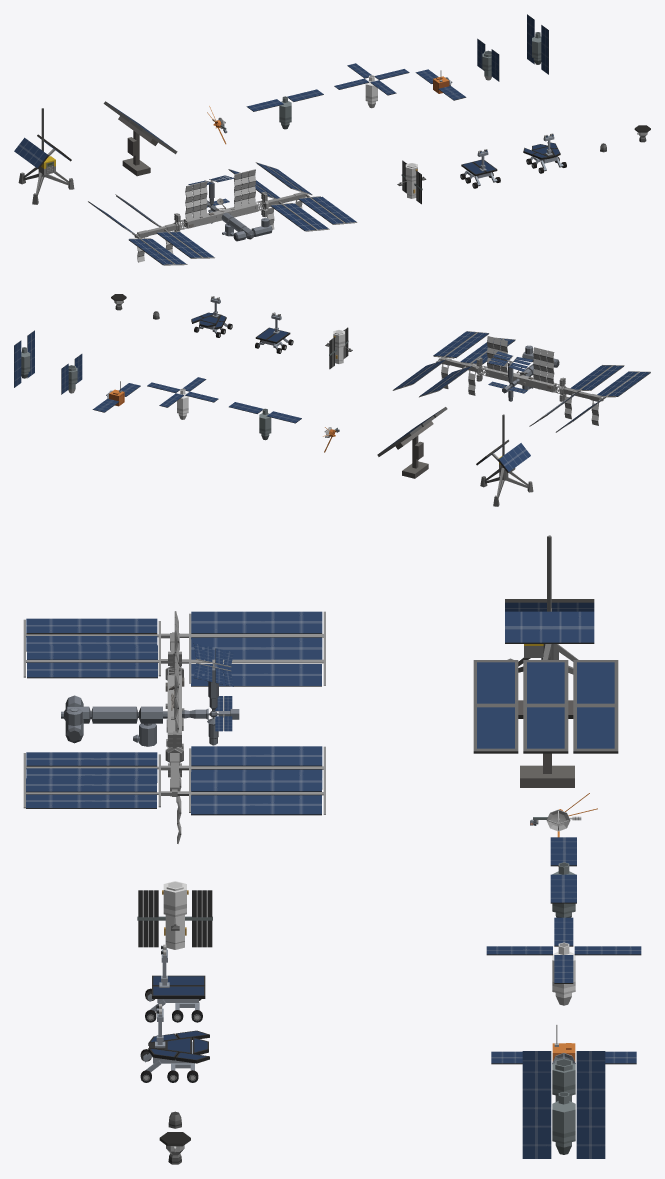
File: MoonVehicle.FBX
3 renders of one model, top to bottom at view 1: azimuth 30°, elevation 25°; view 2: azimuth 150°, elevation 25°; view 3: azimuth 270°, elevation 25°, orthographic. The views are drawn at different scales.
Parts seen in each view (by area): view 1: SM_Veh_SpaceStation_01, SM_Prop_Beacon_01, SM_Prop_SolarPanel_01, SM_Veh_Satellite_05, SM_Veh_Satellite_02, SM_Veh_Satellite_06, SM_Veh_Rover_02, SM_Veh_Rover_01, SM_Veh_Satellite_01, SM_Veh_Satellite_03, SM_Veh_Satellite_04; view 2: SM_Veh_SpaceStation_01, SM_Prop_Beacon_01, SM_Prop_SolarPanel_01, SM_Veh_Satellite_05, SM_Veh_Satellite_02, SM_Veh_Satellite_06, SM_Veh_Rover_02, SM_Veh_Rover_01, SM_Veh_Satellite_01, SM_Veh_Satellite_03, SM_Veh_Satellite_04; view 3: SM_Veh_SpaceStation_01, SM_Prop_SolarPanel_01, SM_Veh_Satellite_02, SM_Prop_Beacon_01, SM_Veh_Satellite_01, SM_Veh_Satellite_05, SM_Veh_Rover_02, SM_Veh_Rover_01, SM_Veh_Satellite_03, SM_Veh_Satellite_06, SM_Veh_Satellite_04.
Boxes of the visible parts, x1,y1,x2,y2 form: SM_Veh_SpaceStation_01: (88,162,357,265); SM_Prop_Beacon_01: (14,108,74,204); SM_Prop_SolarPanel_01: (103,101,177,176); SM_Veh_Satellite_05: (334,63,409,108); SM_Veh_Satellite_02: (527,14,548,74); SM_Veh_Satellite_06: (246,89,323,129); SM_Veh_Rover_02: (523,133,566,173); SM_Veh_Rover_01: (460,149,500,188); SM_Veh_Satellite_01: (397,160,426,204); SM_Veh_Satellite_03: (477,38,499,81); SM_Veh_Satellite_04: (415,69,466,100); SM_Veh_SpaceStation_01: (392,331,650,432); SM_Prop_Beacon_01: (476,414,533,506); SM_Prop_SolarPanel_01: (377,407,447,478); SM_Veh_Satellite_05: (147,377,218,419); SM_Veh_Satellite_02: (14,330,34,387); SM_Veh_Satellite_06: (229,402,301,440); SM_Veh_Rover_02: (191,296,232,337); SM_Veh_Rover_01: (255,312,293,353); SM_Veh_Satellite_01: (325,327,352,369); SM_Veh_Satellite_03: (61,354,82,394); SM_Veh_Satellite_04: (92,381,140,412); SM_Veh_SpaceStation_01: (23,611,325,843); SM_Prop_SolarPanel_01: (473,660,618,787); SM_Veh_Satellite_02: (522,1073,605,1158); SM_Prop_Beacon_01: (505,535,594,674); SM_Veh_Satellite_01: (137,881,212,949); SM_Veh_Satellite_05: (486,917,641,1005); SM_Veh_Rover_02: (140,1004,209,1082); SM_Veh_Rover_01: (145,944,205,1022); SM_Veh_Satellite_03: (522,1051,605,1101); SM_Veh_Satellite_06: (550,837,576,917); SM_Veh_Satellite_04: (491,1024,636,1064).
Bounding box in the file's own units: 44.3 × 6.67 × 23.49.
